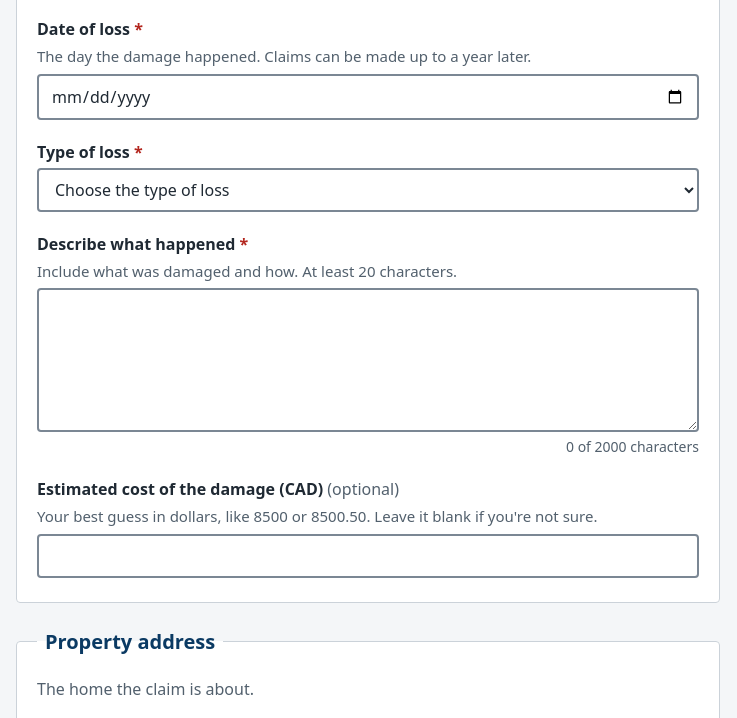
claim form › counts the characters in the description
(page scrolled)
Type "Hello" into the text box labelled "Describe what happened *" at coordinates (368, 360), box x1=37 y1=288 x2=699 y2=432
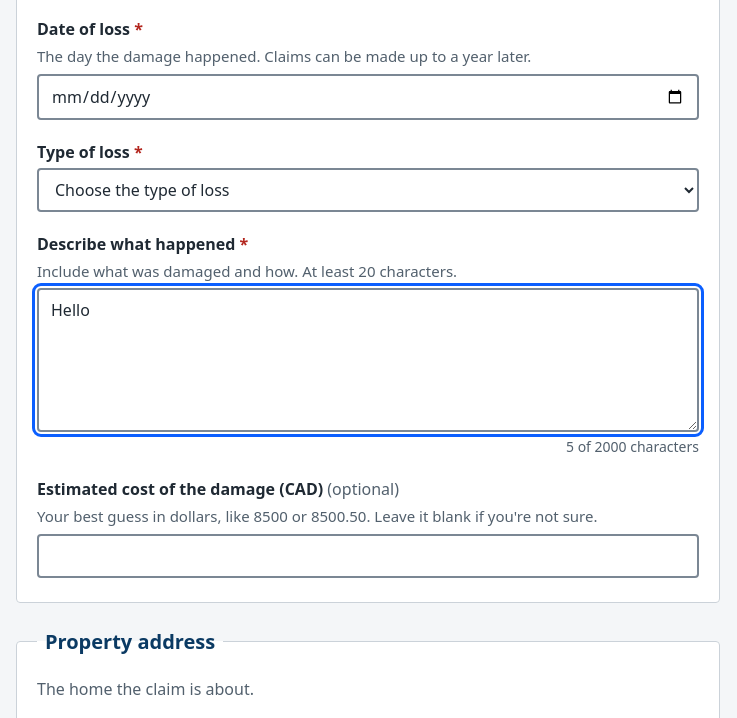
Expected: the text "5 of 2000 characters" is shown, x1=566 y1=437 x2=699 y2=456
